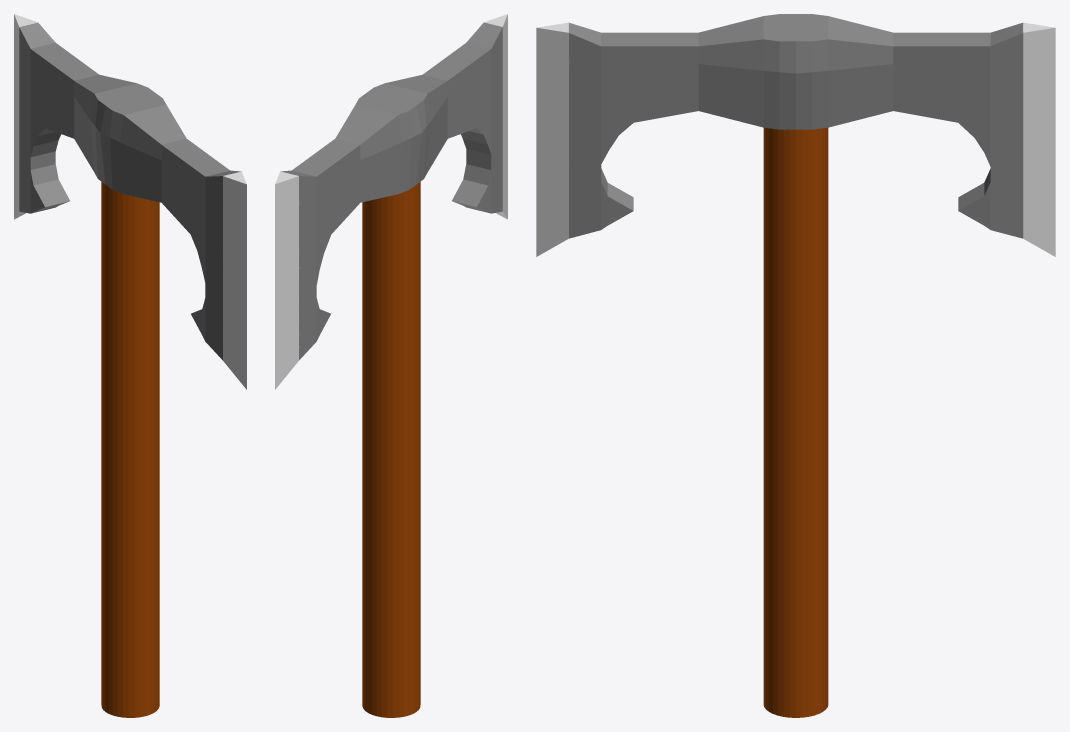
The model's file is SweetChinMusic.fbx.
The picture shows the model from 3 angles, left to right: view 1: azimuth 30°, elevation 25°; view 2: azimuth 150°, elevation 25°; view 3: azimuth 270°, elevation 25°; orthographic projection. The views are drawn at different scales.
Visible parts, largest first — view 1: Cube; view 2: Cube; view 3: Cube.
Boxes of the visible parts, left/top/right/bottom form: Cube: left=14, top=14, right=246, bottom=717; Cube: left=275, top=14, right=507, bottom=717; Cube: left=536, top=14, right=1055, bottom=717.
Size of the model in its own units: 240 by 2300 by 1600.
1 material, 1 textured.
